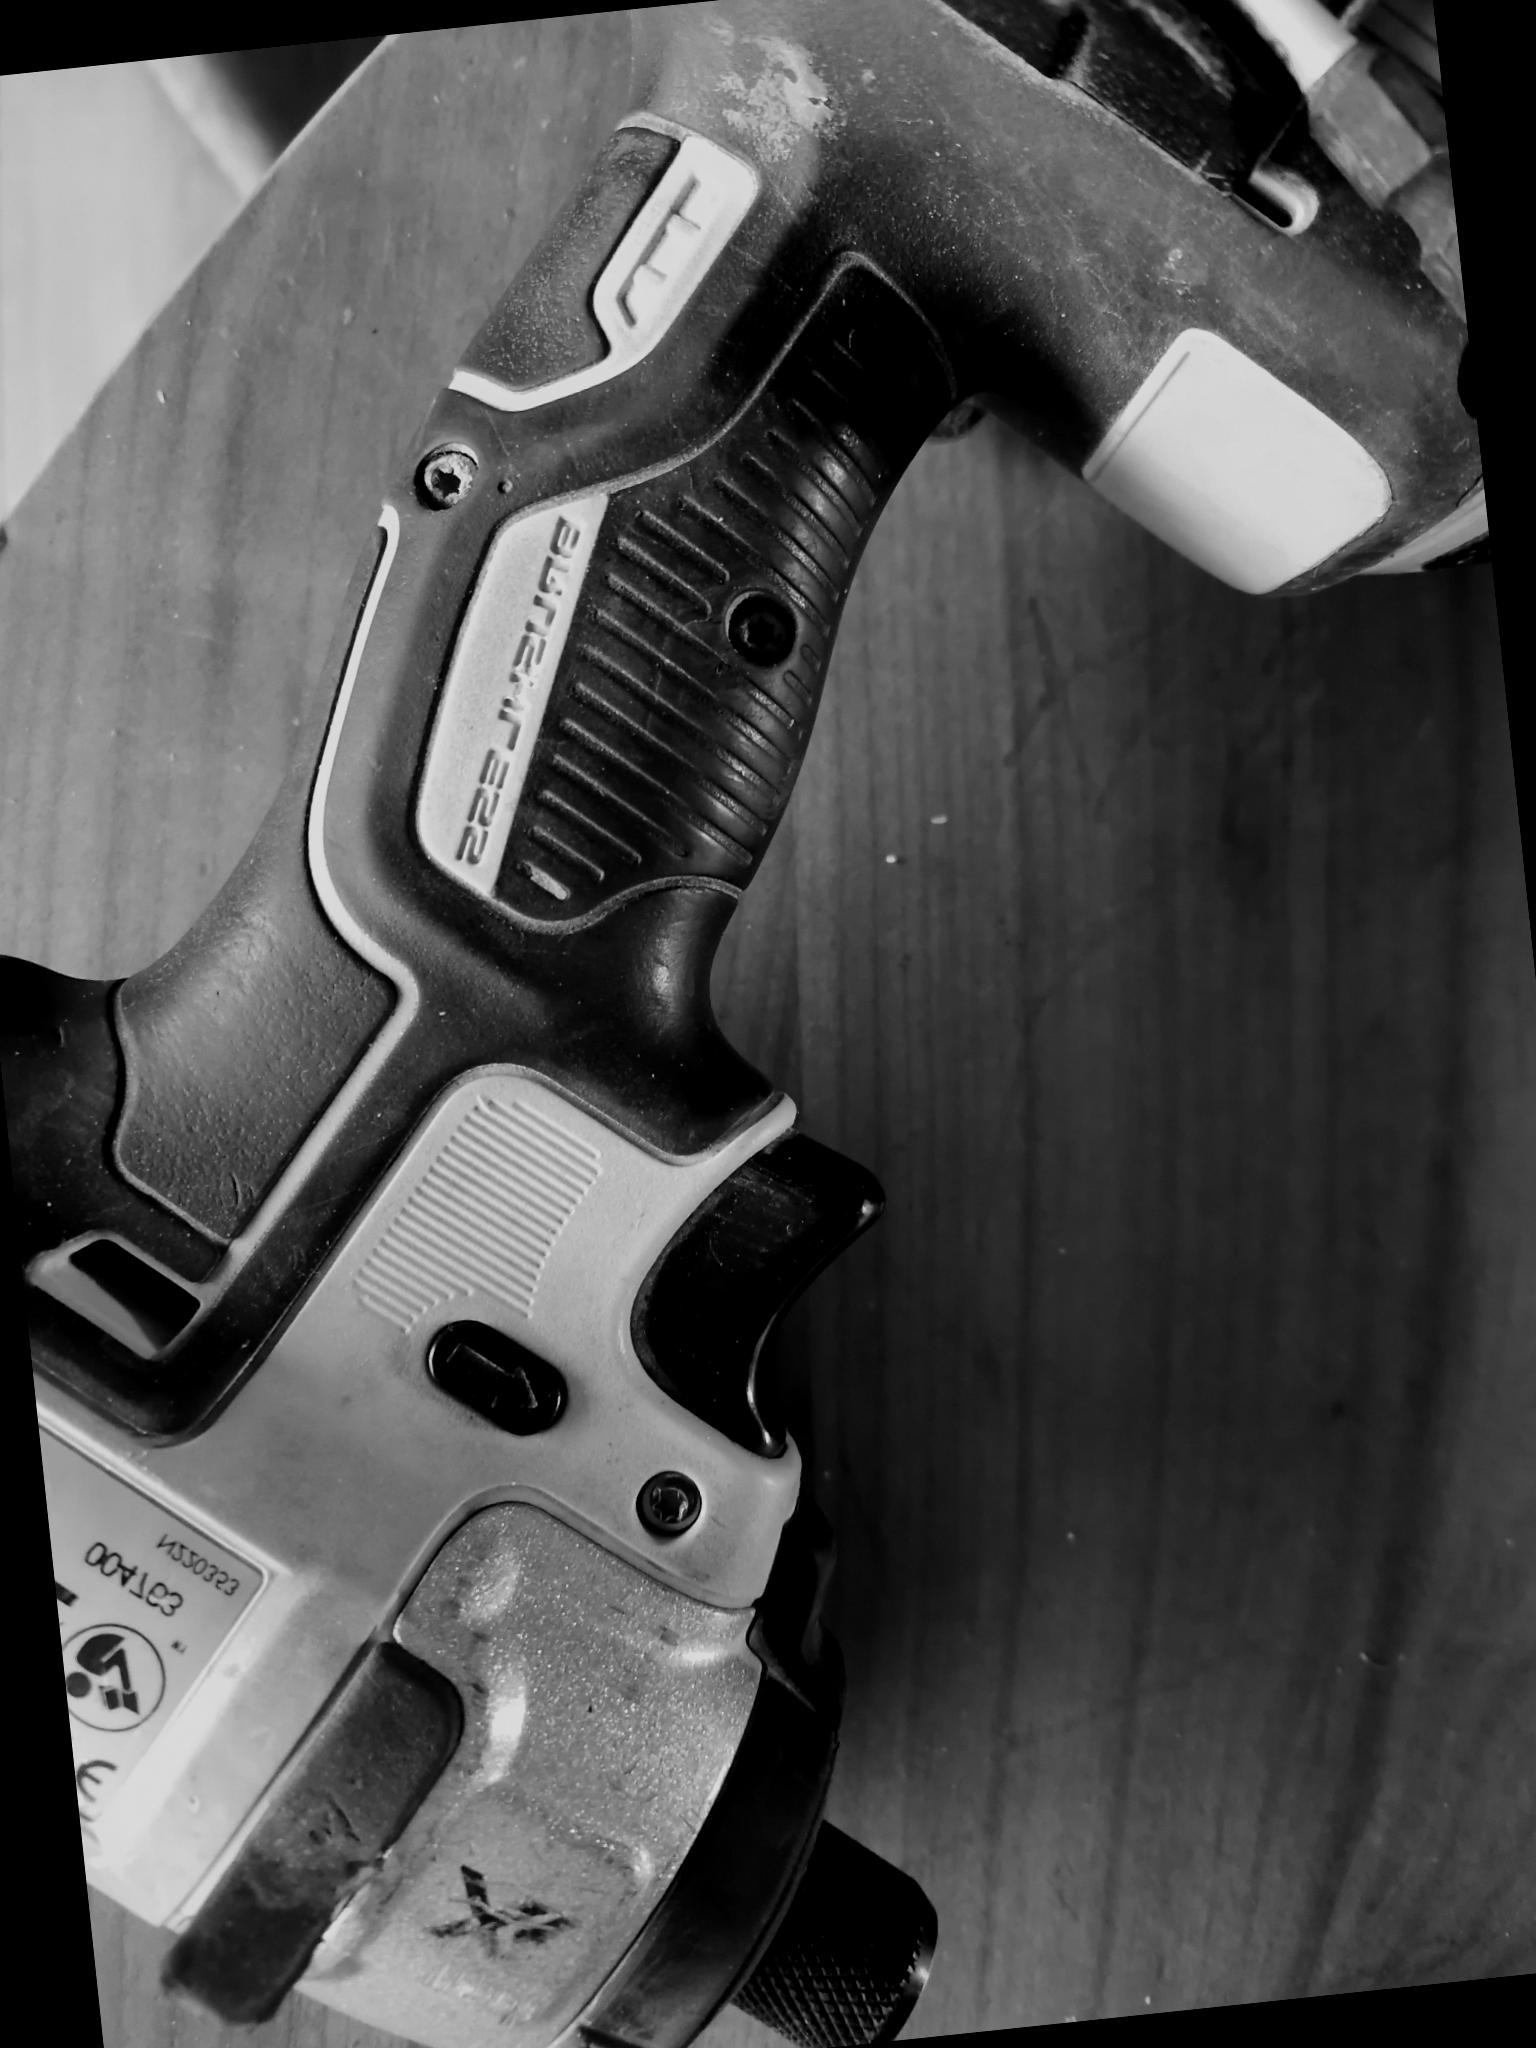torx: (405, 434, 490, 521), (716, 585, 805, 668), (623, 1466, 710, 1543)
